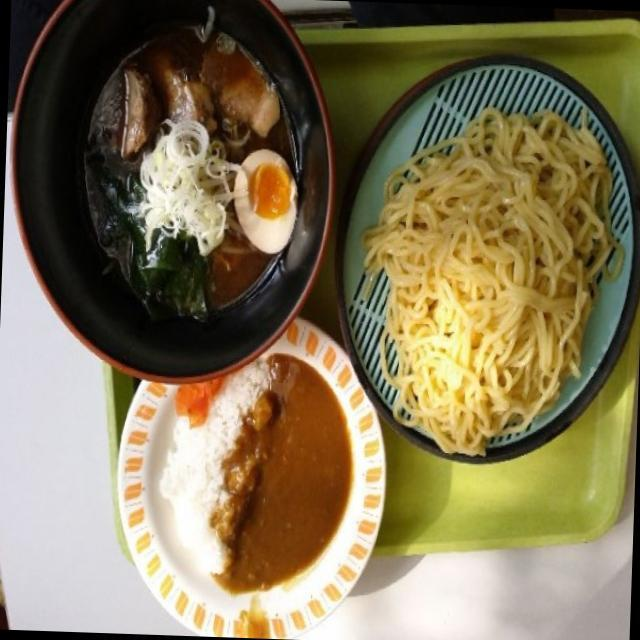Beef Curry: (228, 362, 363, 606)
Pasta: (367, 106, 622, 456)
